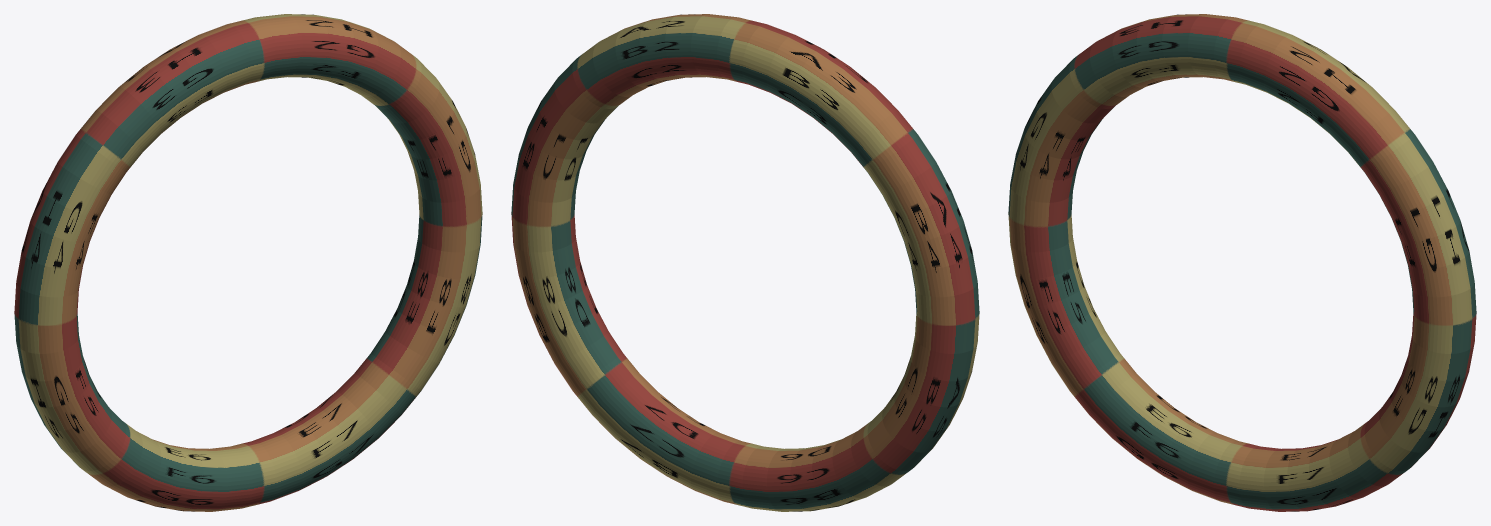
Rendered from texture_torus_R22_r5.glb.
3 renders of one model, left to right at view 1: azimuth 30°, elevation 25°; view 2: azimuth 150°, elevation 25°; view 3: azimuth 330°, elevation 25°, orthographic.
Parts seen in each view (by area): view 1: world; view 2: world; view 3: world.
Boxes of the visible parts, left/top/right/bottom form: world: left=14, top=14, right=482, bottom=511; world: left=511, top=14, right=979, bottom=511; world: left=1008, top=14, right=1476, bottom=511.
Size of the model in its own units: 28 by 27.94 by 3.33.
1 material, 1 textured.
